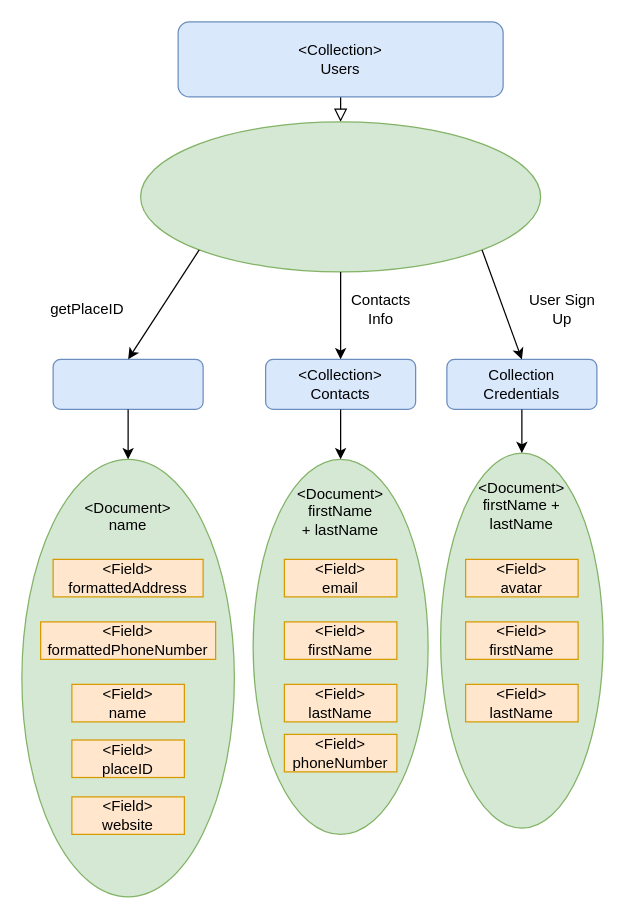
Some shapes in this 625 by 919 pixel diagram are drawn without their labels. Each missing label, with the centre of its shape:
"<Collection> Places" belongs at point 127,383.
"<Document> uID" belongs at point 340,196.
